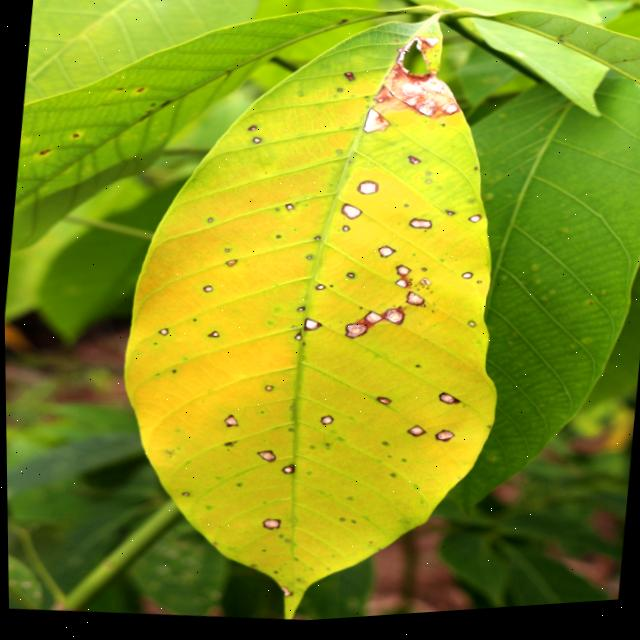Colletotrichum: (378, 312, 404, 331), (341, 326, 366, 345), (354, 184, 378, 201), (403, 295, 424, 314), (339, 207, 360, 225), (435, 397, 459, 412), (253, 452, 274, 467), (403, 429, 424, 444), (431, 434, 452, 449), (407, 222, 431, 235), (376, 249, 395, 264), (301, 321, 320, 336), (259, 521, 278, 534), (392, 269, 410, 282), (221, 417, 237, 431), (317, 418, 332, 430), (278, 466, 293, 478), (405, 160, 420, 170), (465, 221, 480, 230), (374, 401, 389, 410), (393, 284, 406, 294), (417, 283, 430, 292), (223, 262, 236, 270), (200, 287, 211, 296), (156, 330, 168, 338), (205, 333, 218, 340), (313, 288, 324, 295), (460, 278, 471, 285), (283, 206, 292, 214), (344, 276, 353, 284), (250, 140, 260, 147), (340, 229, 349, 236), (291, 337, 299, 344), (295, 310, 303, 316), (263, 389, 271, 394), (466, 327, 472, 333), (248, 129, 255, 134), (180, 494, 186, 499), (222, 251, 227, 256), (206, 220, 211, 225), (419, 272, 424, 277), (304, 259, 310, 263), (405, 287, 410, 291), (336, 93, 341, 96), (475, 287, 480, 290), (393, 45, 397, 47), (274, 239, 278, 241), (408, 284, 410, 286)
Leaf-Blight: (369, 36, 468, 132), (362, 111, 391, 140)
